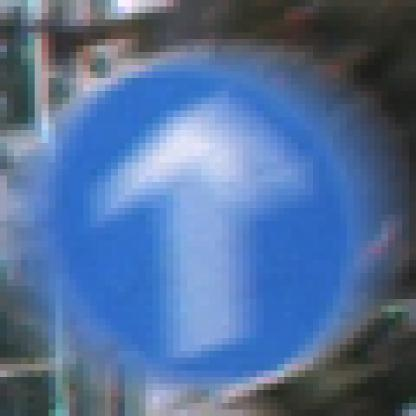AheadOnly: (36, 40, 375, 378)
